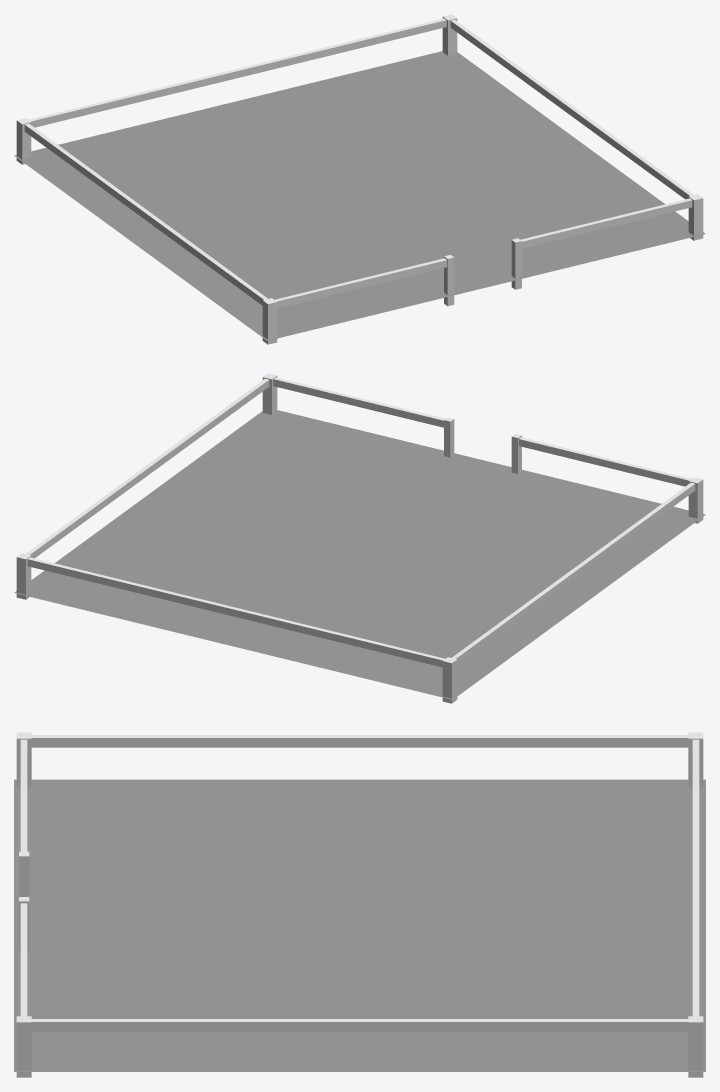
File: tile_for_home_1x1_008.fbx
The picture shows the model from 3 angles, top to bottom: view 1: azimuth 30°, elevation 25°; view 2: azimuth 150°, elevation 25°; view 3: azimuth 270°, elevation 25°; orthographic projection. The views are drawn at different scales.
Visible parts, largest first — view 1: tile_for_home_1x1_008; view 2: tile_for_home_1x1_008; view 3: tile_for_home_1x1_008.
Part boxes in pixels (left/top/right/bottom): tile_for_home_1x1_008: left=14, top=14, right=705, bottom=344; tile_for_home_1x1_008: left=14, top=373, right=705, bottom=703; tile_for_home_1x1_008: left=14, top=732, right=705, bottom=1077.
Size of the model in its own units: 800 by 82.35 by 800.
